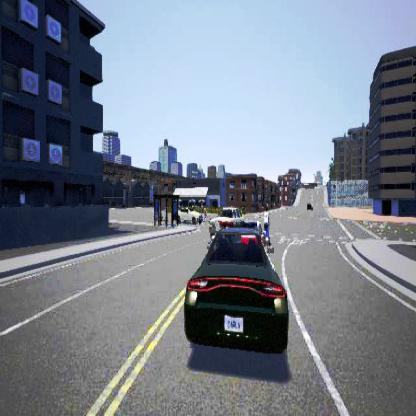bike: (262, 207, 270, 242)
vehicle: (183, 204, 288, 352), (207, 206, 246, 236), (178, 207, 206, 223)
